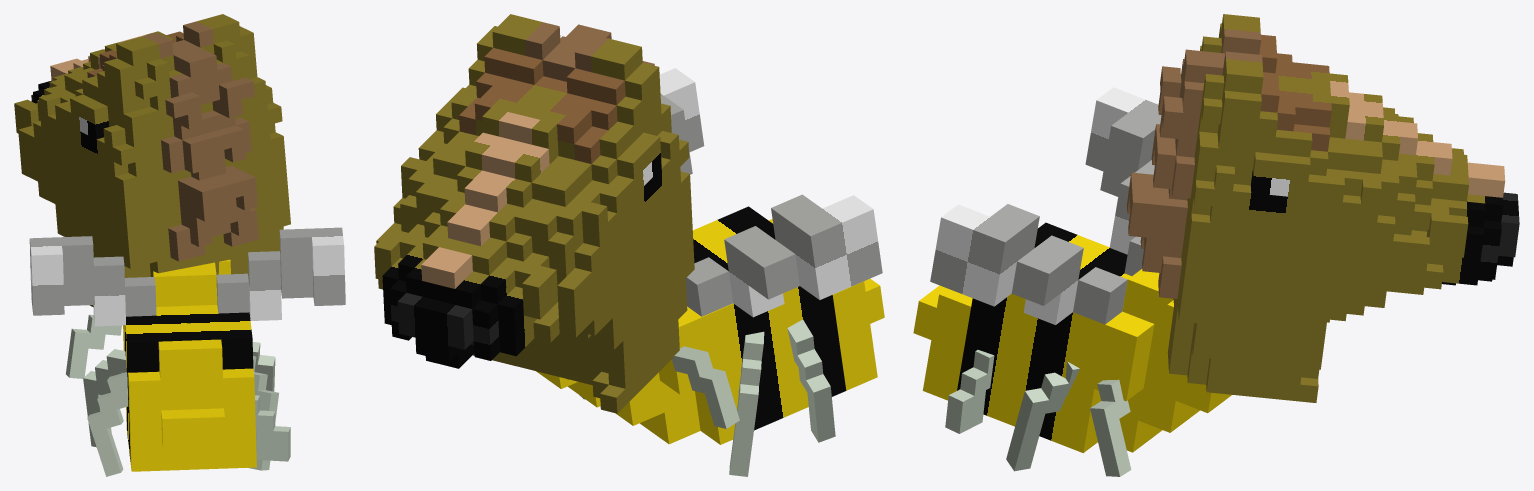
Rendered from Lee Hiu Ching 2R16.gltf.
3 views of the same model, side by side, from view 1: azimuth 30°, elevation 25°; view 2: azimuth 150°, elevation 25°; view 3: azimuth 270°, elevation 25° (orthographic). The views are drawn at different scales.
Visible parts, largest first — view 1: Head-Local, Chest-Local, Wing2-Local, Wing1-Local, Right_Hand-Local, Left_Leg-Local, Left_Arm-Local, Right_Thigh-Local, Right_Leg-Local, Left_Thigh-Local; view 2: Head-Local, Chest-Local, Wing1-Local, Right_Hand-Local, Right_Thigh-Local, Left_Arm-Local, Wing2-Local; view 3: Head-Local, Chest-Local, Wing2-Local, Wing1-Local, Right_Leg-Local, Left_Thigh-Local, Left_Leg-Local.
Boxes of the visible parts, x1=… form: Head-Local: x1=14, y1=14, x2=290, y2=307; Chest-Local: x1=123, y1=259, x2=256, y2=471; Wing2-Local: x1=216, y1=227, x2=345, y2=320; Wing1-Local: x1=29, y1=236, x2=156, y2=326; Right_Hand-Local: x1=87, y1=372, x2=128, y2=476; Left_Leg-Local: x1=255, y1=395, x2=290, y2=461; Left_Arm-Local: x1=66, y1=314, x2=121, y2=378; Right_Thigh-Local: x1=83, y1=349, x2=126, y2=447; Right_Leg-Local: x1=248, y1=356, x2=278, y2=470; Left_Thigh-Local: x1=252, y1=342, x2=275, y2=391; Head-Local: x1=374, y1=14, x2=694, y2=413; Chest-Local: x1=536, y1=206, x2=884, y2=444; Wing1-Local: x1=685, y1=194, x2=882, y2=317; Right_Hand-Local: x1=787, y1=319, x2=835, y2=442; Right_Thigh-Local: x1=729, y1=331, x2=764, y2=476; Left_Arm-Local: x1=672, y1=346, x2=739, y2=428; Wing2-Local: x1=659, y1=68, x2=704, y2=174; Head-Local: x1=1126, y1=14, x2=1519, y2=402; Chest-Local: x1=913, y1=222, x2=1231, y2=453; Wing2-Local: x1=930, y1=204, x2=1127, y2=324; Wing1-Local: x1=1085, y1=87, x2=1161, y2=275; Right_Leg-Local: x1=1006, y1=361, x2=1079, y2=471; Left_Thigh-Local: x1=1090, y1=379, x2=1131, y2=476; Left_Leg-Local: x1=945, y1=350, x2=994, y2=433.
Size of the model in its own units: 21.41 by 25.91 by 32.87.
10 materials, 10 textured.
